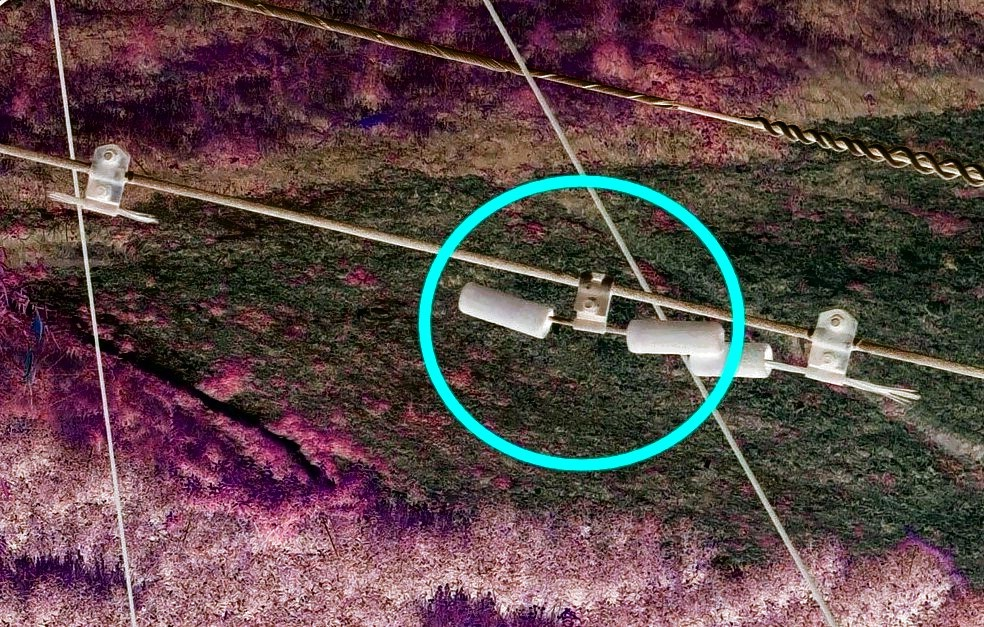Damage of shockproof hammer: (684, 283, 924, 422), (45, 138, 169, 233)
